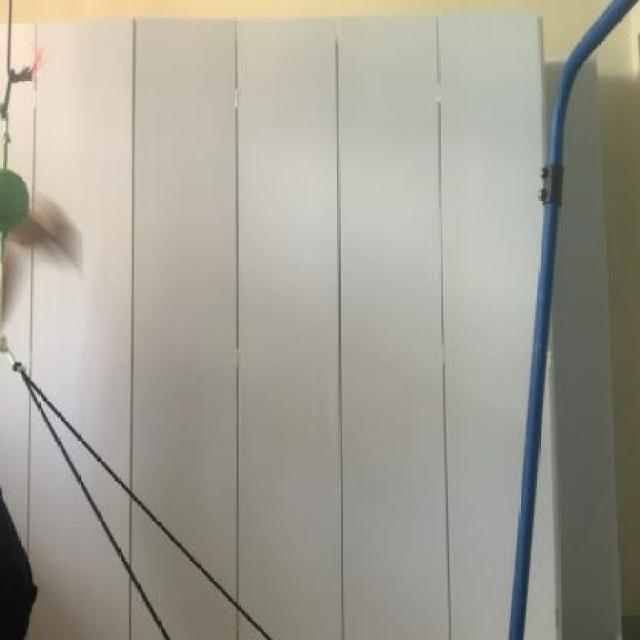baseball: (0, 154, 48, 258)
